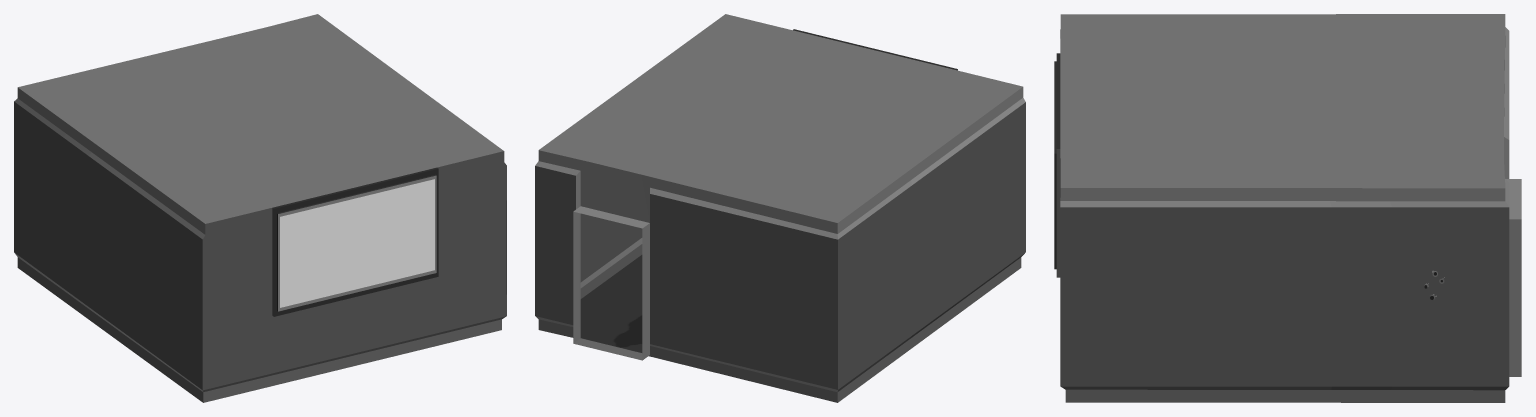
The model's file is LivingRoomModel.fbx.
3 views of the same model, side by side, from view 1: azimuth 30°, elevation 25°; view 2: azimuth 150°, elevation 25°; view 3: azimuth 270°, elevation 25° (orthographic). The views are drawn at different scales.
Visible parts, largest first — view 1: LivingRoomModel; view 2: LivingRoomModel; view 3: LivingRoomModel.
Part boxes in pixels (x1,y1,x2,y2): LivingRoomModel: [14, 14, 506, 402]; LivingRoomModel: [535, 14, 1025, 402]; LivingRoomModel: [1054, 14, 1521, 402].
Size of the model in its own units: 528 by 300 by 592.
